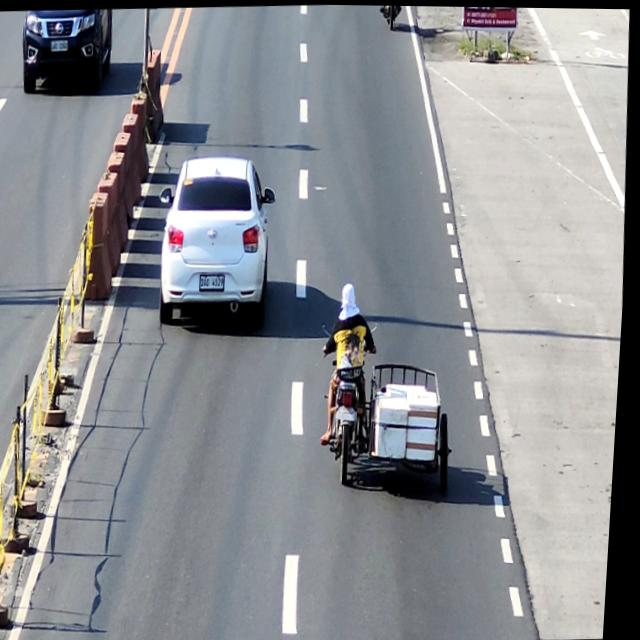Car: (154, 151, 284, 329), (19, 7, 116, 94)
License-Plate: (202, 274, 228, 290), (339, 404, 360, 420), (50, 39, 69, 51)
Tricycle: (319, 315, 466, 497)
